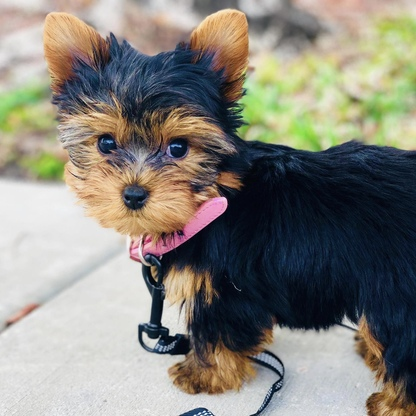yorkshire: (39, 8, 416, 415)
